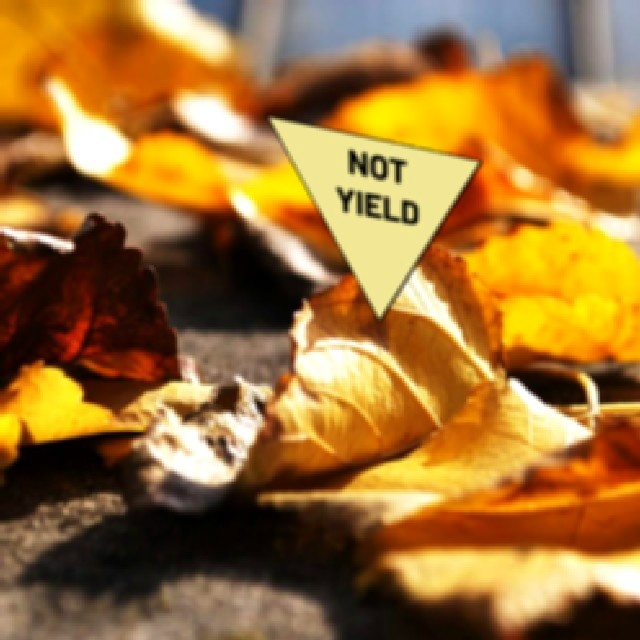NOT_YIELD: (264, 113, 481, 321)
